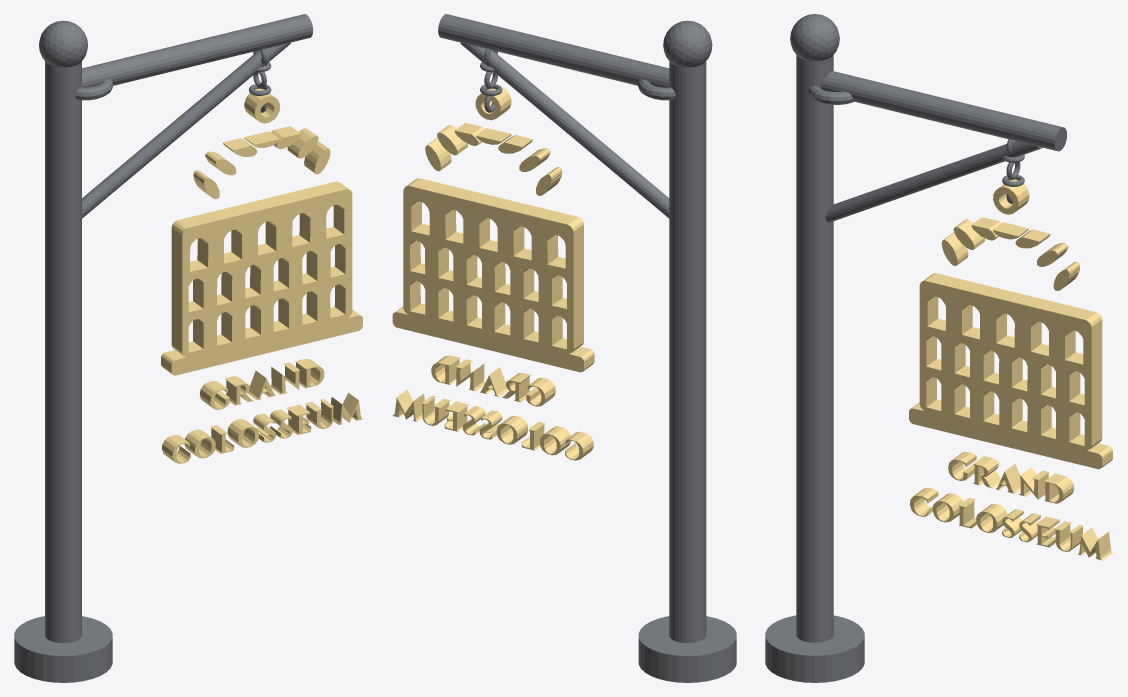
The model's file is grand_colosseum.glb.
3 renders of one model, left to right at view 1: azimuth 30°, elevation 25°; view 2: azimuth 150°, elevation 25°; view 3: azimuth 330°, elevation 25°, orthographic.
Visible parts, largest first — view 1: sign, post, arm, post_base, brace, post_cap; view 2: sign, post, arm, post_base, brace, post_cap; view 3: sign, post, arm, post_base, brace, post_cap, scroll.
Boxes of the visible parts, x1,y1,x2,y2 form: sign: (161, 88, 362, 463); post: (45, 61, 81, 642); arm: (81, 14, 312, 87); post_base: (14, 616, 112, 682); brace: (82, 42, 290, 218); post_cap: (39, 20, 87, 67); sign: (392, 86, 594, 460); post: (669, 61, 706, 642); arm: (438, 14, 669, 87); post_base: (638, 616, 736, 682); brace: (460, 42, 669, 218); post_cap: (663, 20, 712, 67); sign: (909, 179, 1113, 560); post: (796, 55, 833, 642); arm: (820, 71, 1066, 151); post_base: (765, 615, 864, 682); brace: (825, 141, 1042, 222); post_cap: (790, 14, 839, 61); scroll: (808, 74, 854, 104).
Size of the model in its own units: 1.57 by 2.86 by 0.3978.
